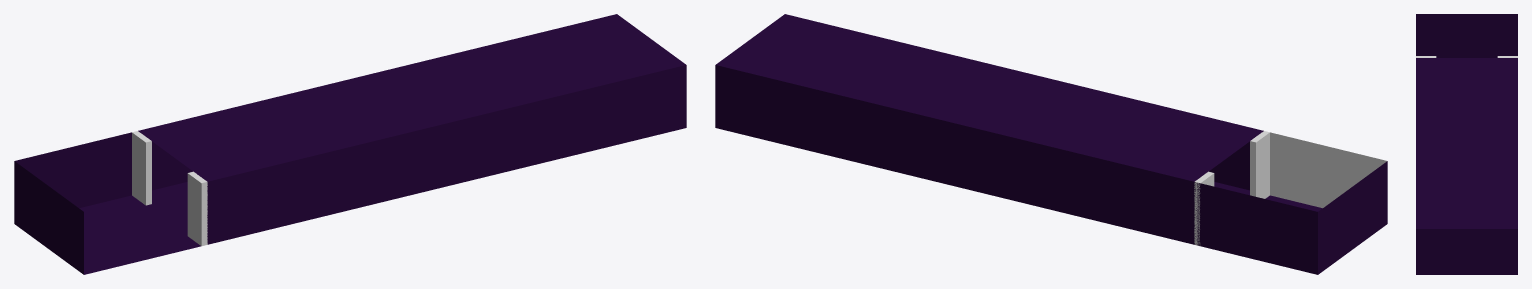
File: PortfolioTeste.glb
3 renders of one model, left to right at view 1: azimuth 30°, elevation 25°; view 2: azimuth 150°, elevation 25°; view 3: azimuth 270°, elevation 25°, orthographic. The views are drawn at different scales.
Parts seen in each view (by area): view 1: Sala1, Cube.002, Sala1Parede.001, Sala1Parede; view 2: Sala1, Cube.002, Cube.003, Sala1Parede.001, Sala1Parede; view 3: Sala1, Cube.002.
Part boxes in pixels (x1=…): Sala1: x1=138, y1=14, x2=686, y2=244; Cube.002: x1=14, y1=132, x2=200, y2=274; Sala1Parede.001: x1=187, y1=171, x2=207, y2=246; Sala1Parede: x1=132, y1=131, x2=151, y2=205; Sala1: x1=715, y1=14, x2=1263, y2=244; Cube.002: x1=1194, y1=161, x2=1387, y2=274; Cube.003: x1=1270, y1=132, x2=1386, y2=208; Sala1Parede.001: x1=1250, y1=131, x2=1269, y2=198; Sala1Parede: x1=1194, y1=171, x2=1214, y2=245; Sala1: x1=1416, y1=58, x2=1517, y2=274; Cube.002: x1=1416, y1=14, x2=1517, y2=57.
Size of the model in its own units: 50 by 5 by 10.
